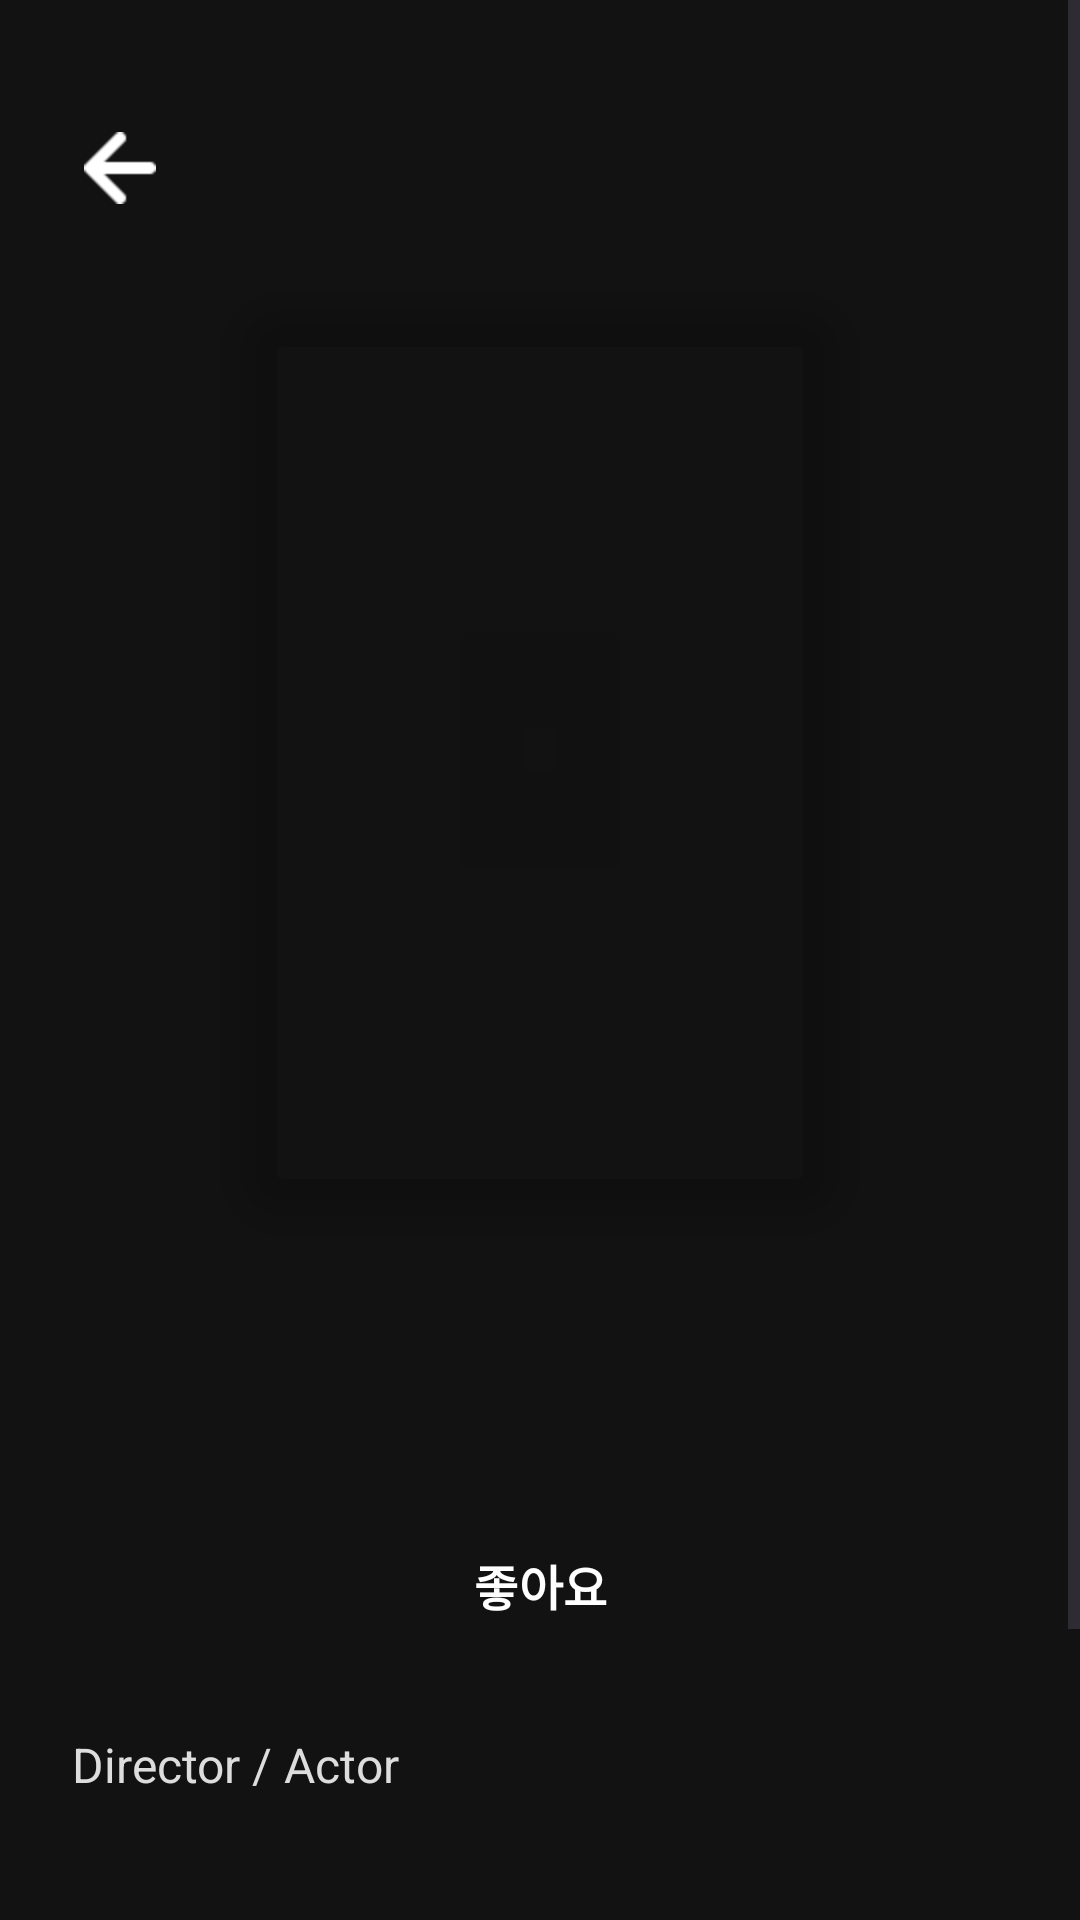

Where to tap for icons on this 1080*1920 app screen, as point (x, y):
뒤로 가기: point (120, 168)
